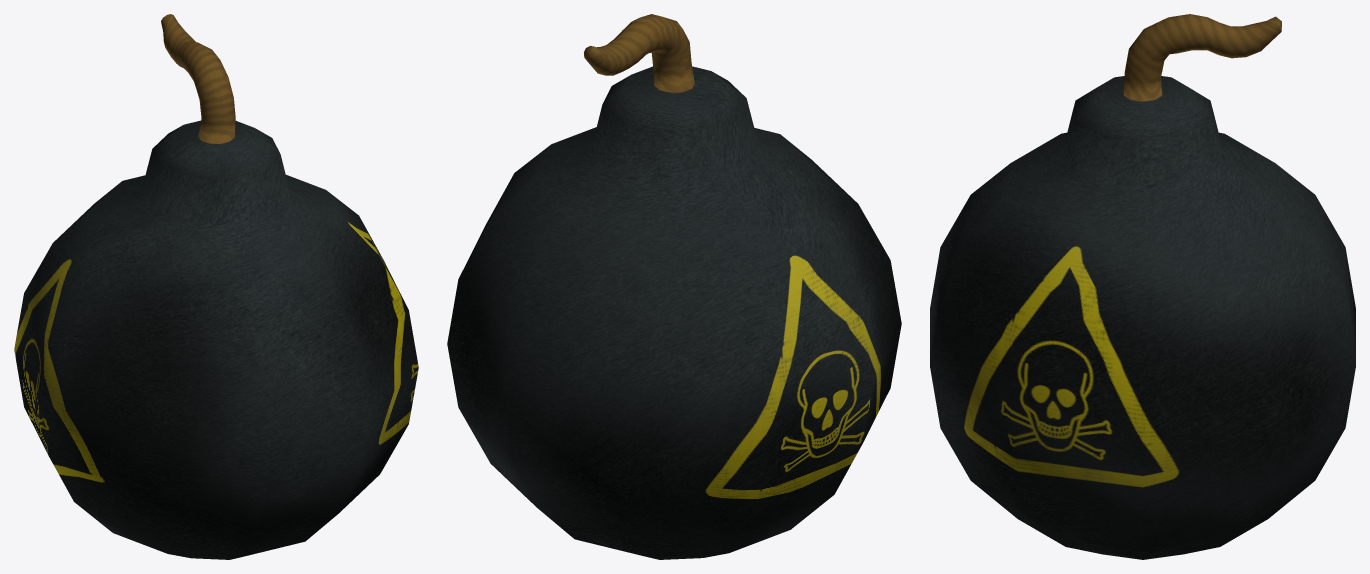
File: Kani.fbx
3 renders of one model, left to right at view 1: azimuth 30°, elevation 25°; view 2: azimuth 150°, elevation 25°; view 3: azimuth 270°, elevation 25°, orthographic. The views are drawn at different scales.
Parts seen in each view (by area): view 1: Bakudann; view 2: Bakudann; view 3: Bakudann.
Part boxes in pixels (bbox=[...]): Bakudann: bbox=[14, 14, 418, 559]; Bakudann: bbox=[447, 14, 901, 559]; Bakudann: bbox=[930, 14, 1355, 559].
Size of the model in its own units: 70 by 91.38 by 66.57.
1 material, 1 textured.
